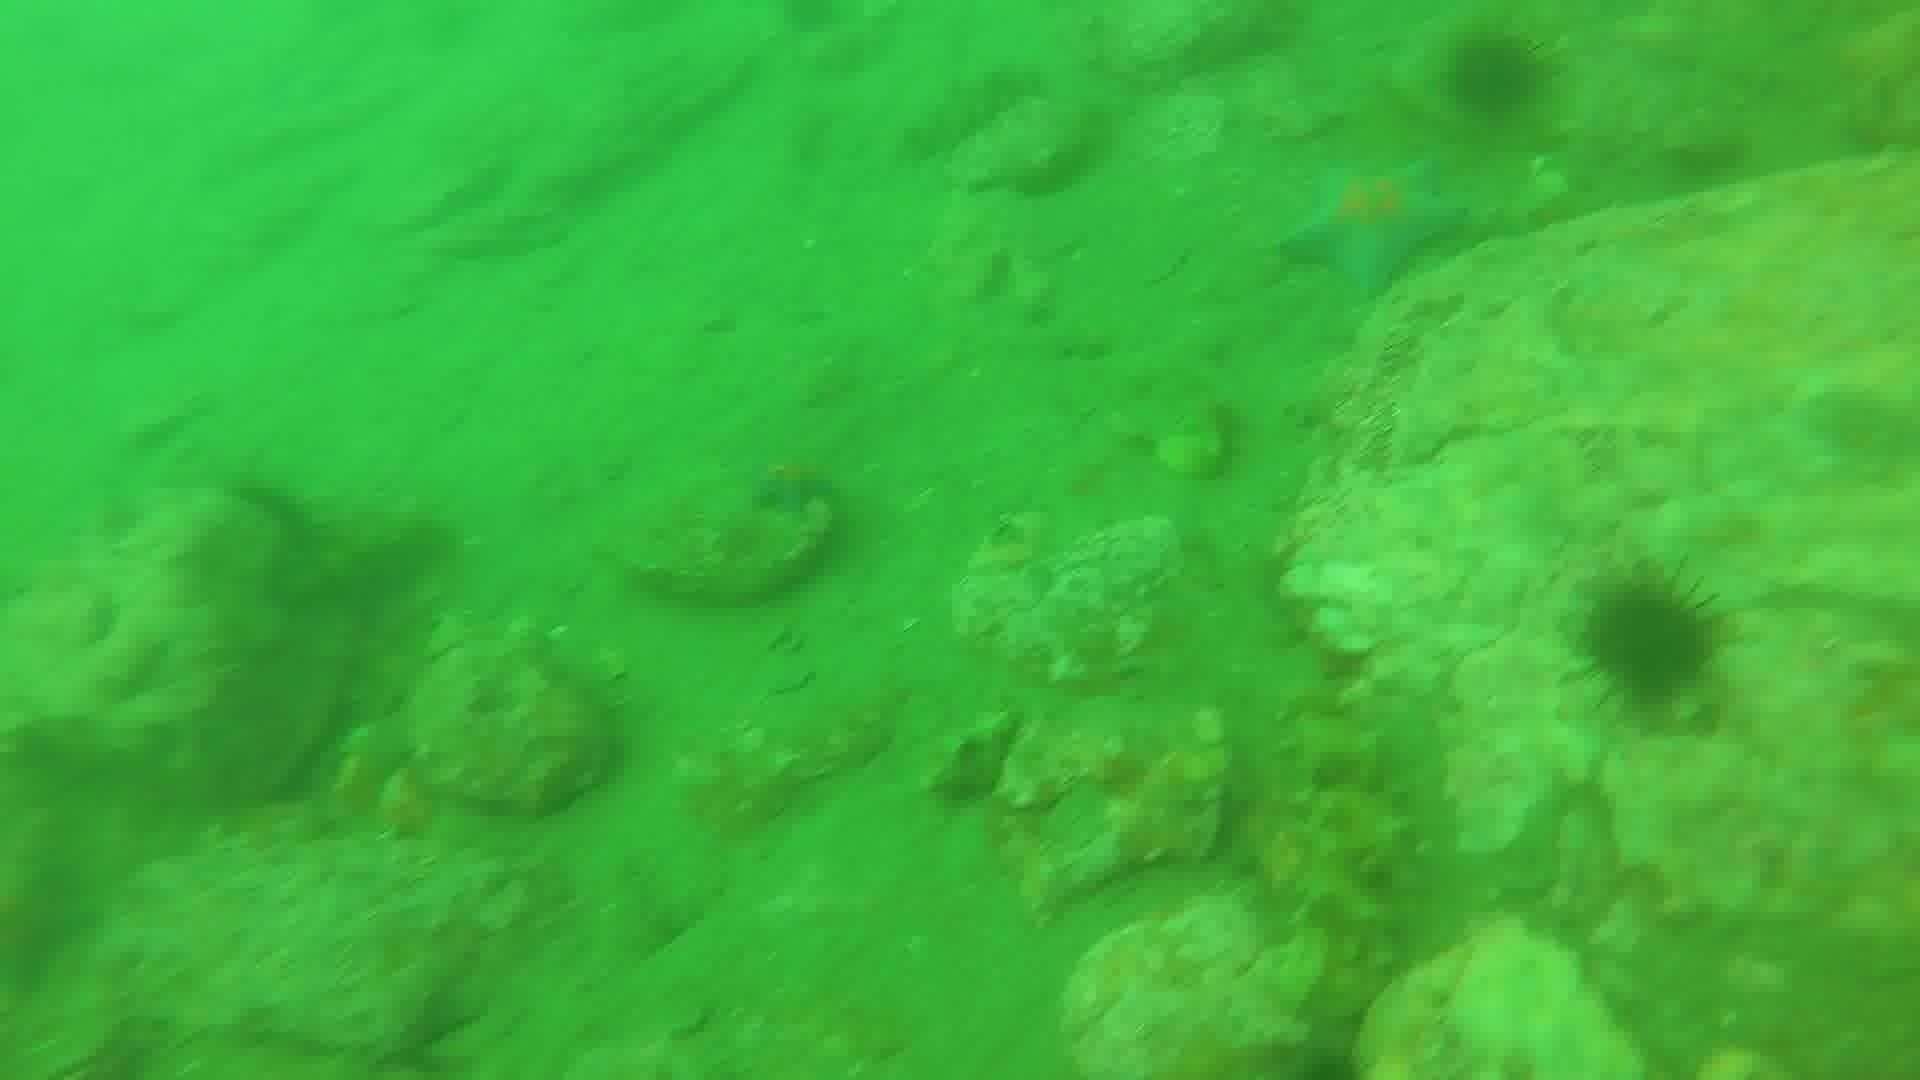echinus: (1576, 571, 1727, 712), (1439, 28, 1553, 123)
holothurian: (1280, 699, 1415, 961), (899, 61, 1044, 164)
starfish: (1275, 152, 1466, 301), (746, 458, 847, 521)
